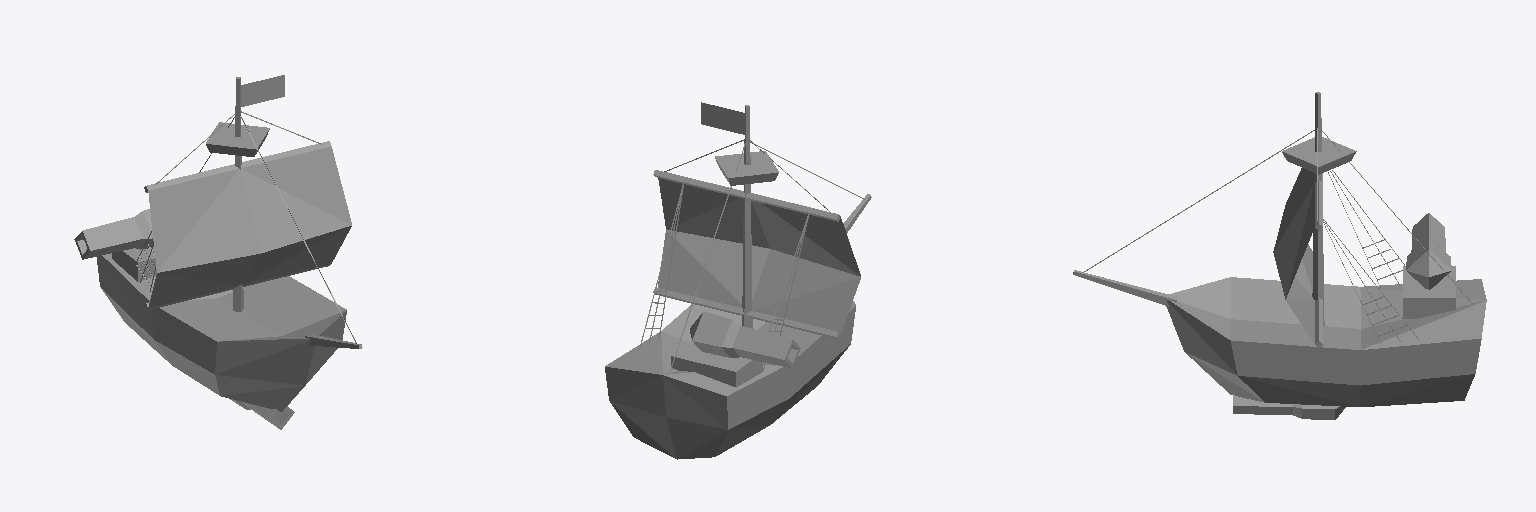
File: pirate.obj
3 renders of one model, left to right at view 1: azimuth 30°, elevation 25°; view 2: azimuth 150°, elevation 25°; view 3: azimuth 270°, elevation 25°, orthographic.
Visible parts, largest first — view 1: boat_Cube, cloth_Cube.008, cannon.001_Cube.015, ropes_Cube.010, cannon_Cube.005; view 2: boat_Cube, cloth_Cube.008, cannon.001_Cube.015, ropes_Cube.010; view 3: boat_Cube, cloth_Cube.008, cannon.001_Cube.015, cannon_Cube.005, ropes_Cube.010.
Part boxes in pixels (x1,y1,x2,y2): boat_Cube: (97, 77, 362, 411); cloth_Cube.008: (148, 75, 351, 307); cannon.001_Cube.015: (74, 209, 153, 259); ropes_Cube.010: (136, 111, 356, 343); cannon_Cube.005: (230, 399, 294, 429); boat_Cube: (605, 105, 871, 459); cloth_Cube.008: (658, 102, 860, 333); cannon.001_Cube.015: (690, 312, 800, 368); ropes_Cube.010: (639, 139, 864, 372); boat_Cube: (1073, 92, 1486, 406); cloth_Cube.008: (1273, 168, 1314, 343); cannon.001_Cube.015: (1406, 213, 1451, 289); cannon_Cube.005: (1233, 394, 1345, 419); ropes_Cube.010: (1083, 128, 1472, 343).
Bounding box in the file's own units: 2.18 × 3.44 × 3.94.